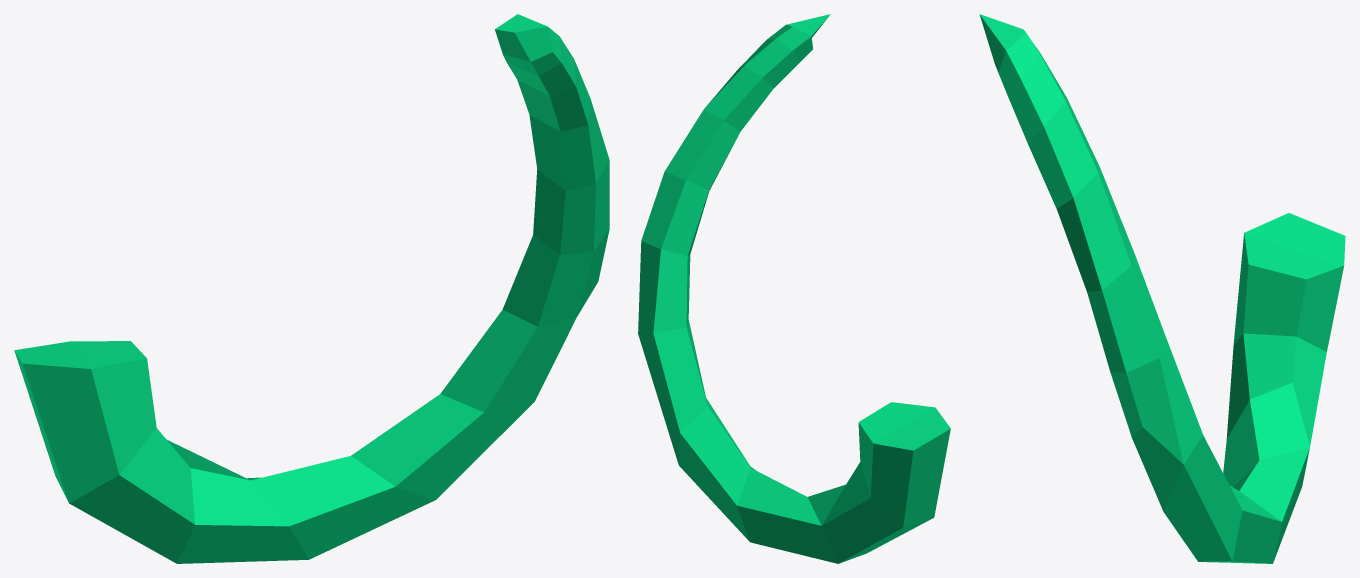
The picture shows the model from 3 angles, left to right: view 1: azimuth 30°, elevation 25°; view 2: azimuth 150°, elevation 25°; view 3: azimuth 270°, elevation 25°; orthographic projection. The views are drawn at different scales.
Visible parts, largest first — view 1: Root_06; view 2: Root_06; view 3: Root_06.
Part boxes in pixels (x1,y1,x2,y2): Root_06: (14, 14, 609, 563); Root_06: (638, 14, 950, 563); Root_06: (979, 14, 1345, 563).
Bounding box in the file's own units: 254 × 294 × 170.
